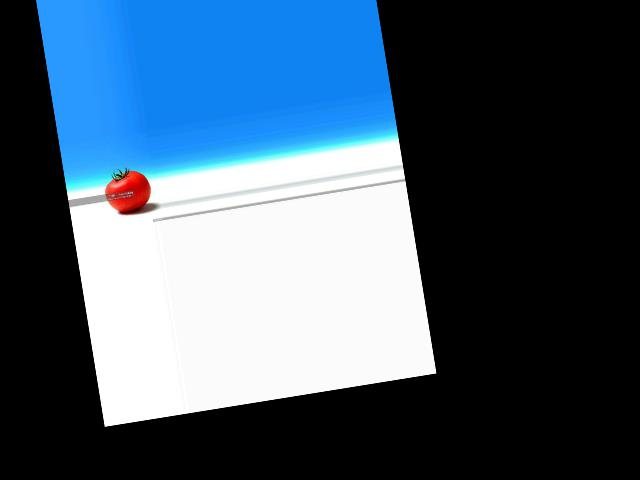tomato: (101, 168, 152, 214)
